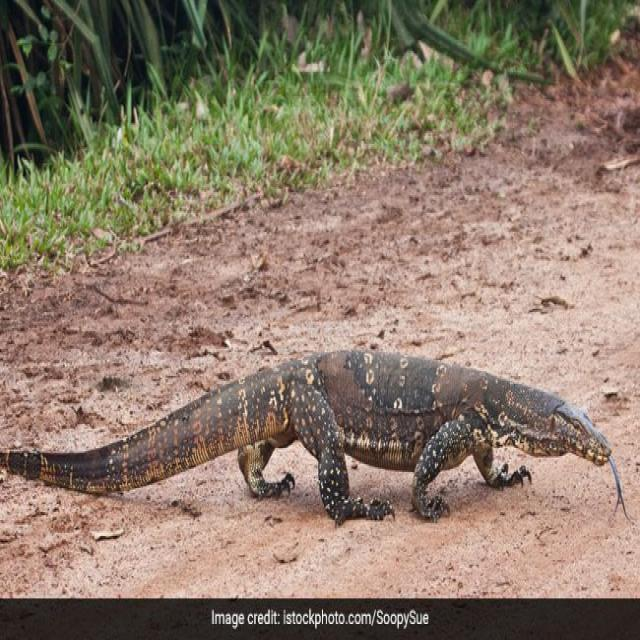Lizard: (0, 338, 628, 527)
